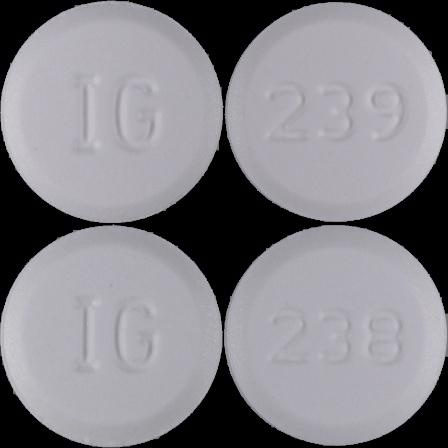51655-053: (0, 0, 224, 224)
